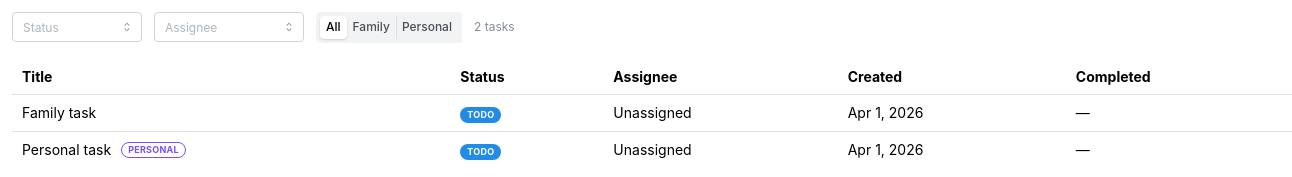
Test: TaskHistoryView › filtering by scope "Personal" hides family tasks
Click the radio button labelled "Personal": {"x": 427, "y": 26} [402,19,452,34]
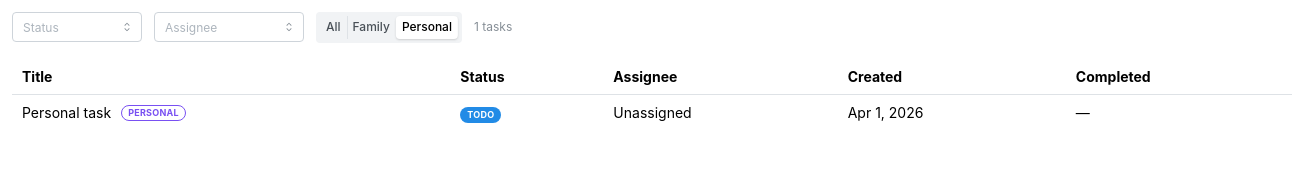
Expected: the text "Personal task" is shown, [22,103,111,123]
Result: the text "Family task" is gone
Result: the text "1 tasks" is shown at [474,19,512,36]
